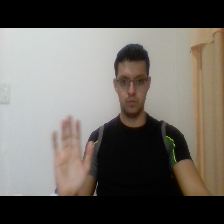left: (47, 112, 98, 194)
